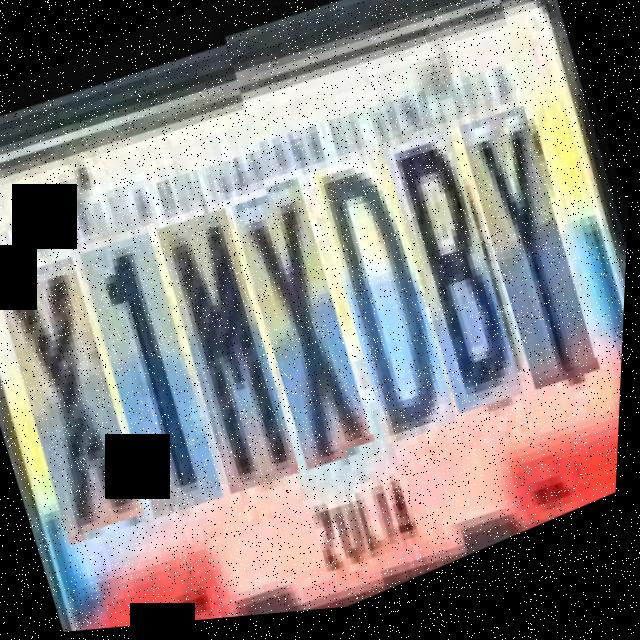1: (66, 212, 241, 523)
B: (370, 116, 541, 424)
D: (296, 136, 476, 455)
M: (141, 187, 317, 498)
X: (217, 163, 393, 474), (0, 236, 162, 543)
Y: (445, 91, 616, 399)
